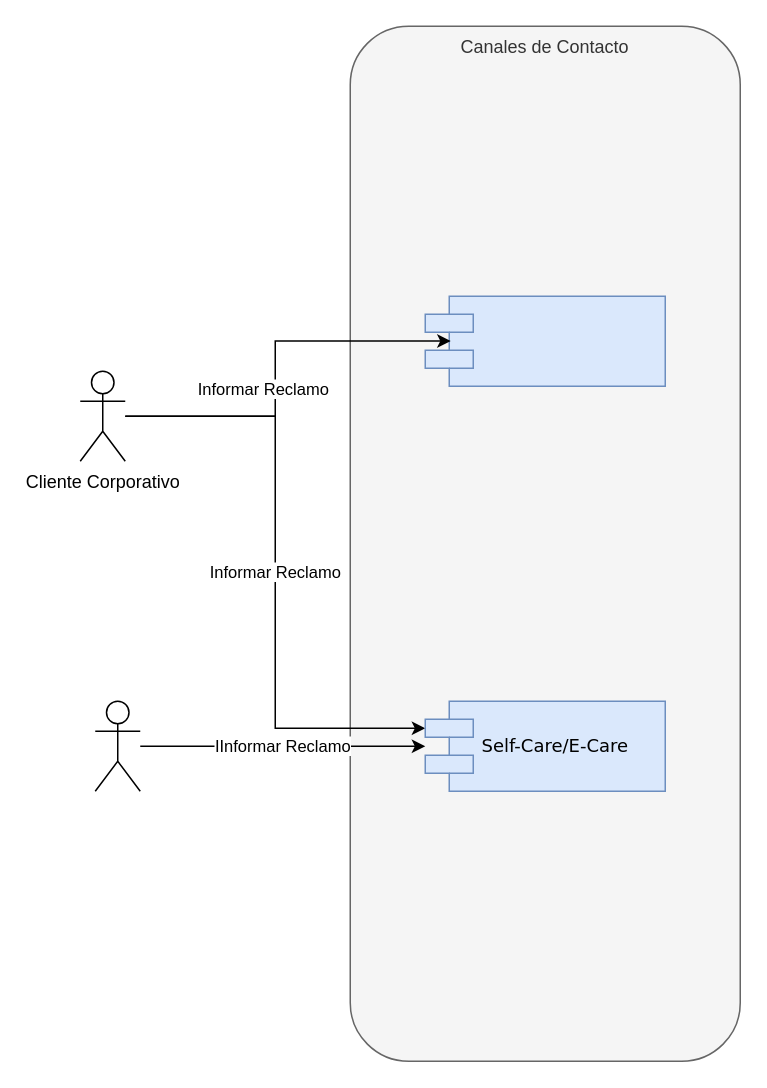
This 767x1088 diagram has some shape labels left out. The centre of each missing label's shape, as x and y in pixels:
"Ejecutivo" belongs at [117,745].
"Redes Sociales" belongs at [544,340].
